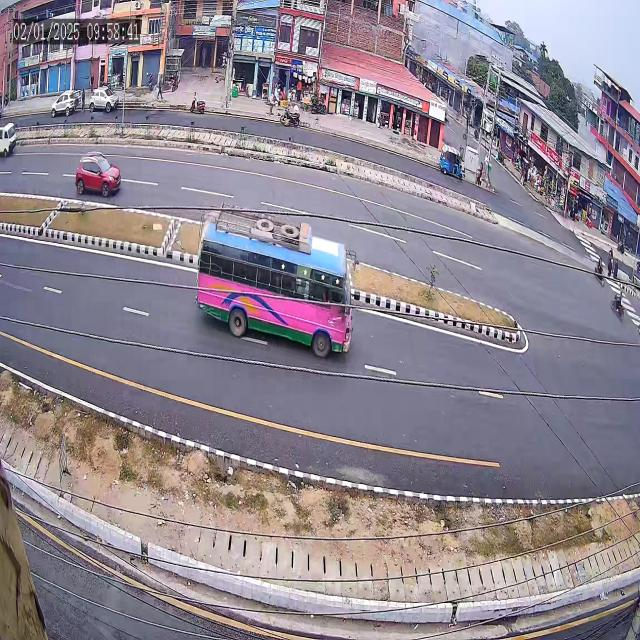bus: (194, 190, 366, 377)
car: (71, 138, 128, 202)
motorcycle: (608, 284, 627, 325)
